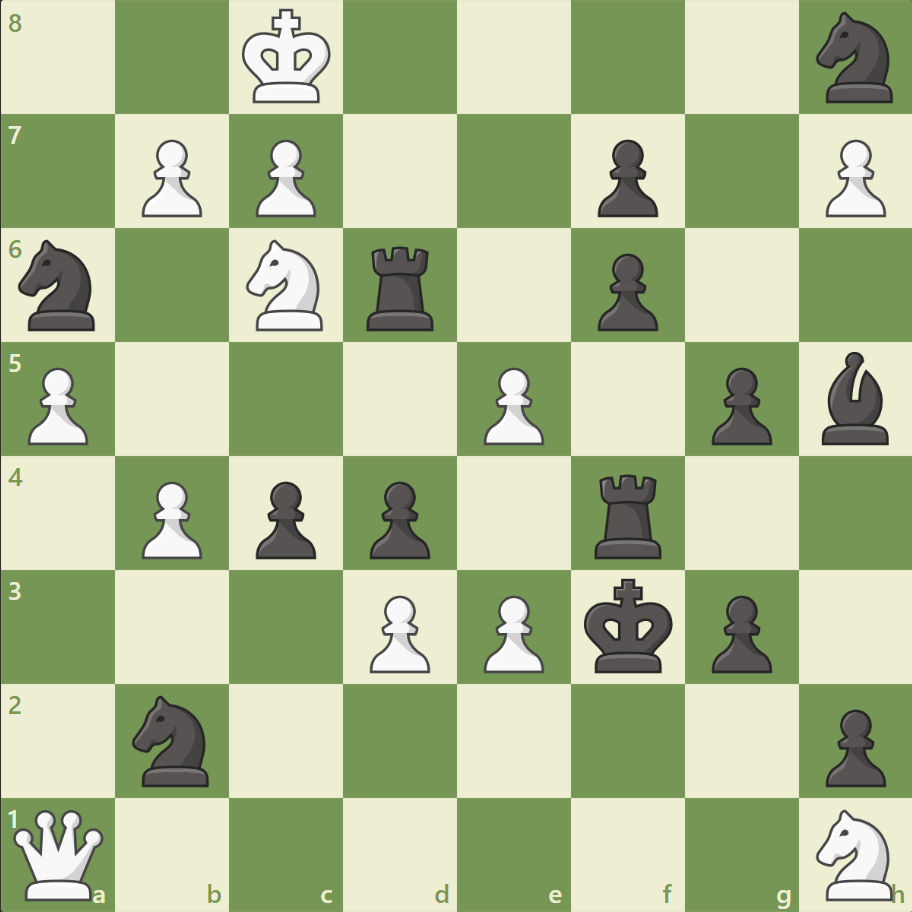K: (238, 4, 338, 112)
N: (238, 234, 335, 337), (806, 802, 903, 904)
P: (133, 132, 208, 223), (247, 132, 322, 223), (20, 359, 95, 450), (474, 359, 549, 450), (133, 473, 208, 564), (474, 586, 549, 677), (815, 132, 889, 223), (361, 586, 435, 677)
Q: (10, 804, 109, 903)
b: (812, 347, 896, 449)
k: (579, 571, 679, 679)
n: (124, 688, 222, 791), (806, 7, 903, 110), (11, 234, 108, 337)
p: (701, 359, 776, 450), (247, 473, 322, 564), (701, 586, 776, 677), (588, 132, 662, 223), (588, 246, 662, 337), (361, 473, 435, 564), (815, 700, 889, 791)
r: (587, 466, 670, 563), (360, 239, 442, 336)
